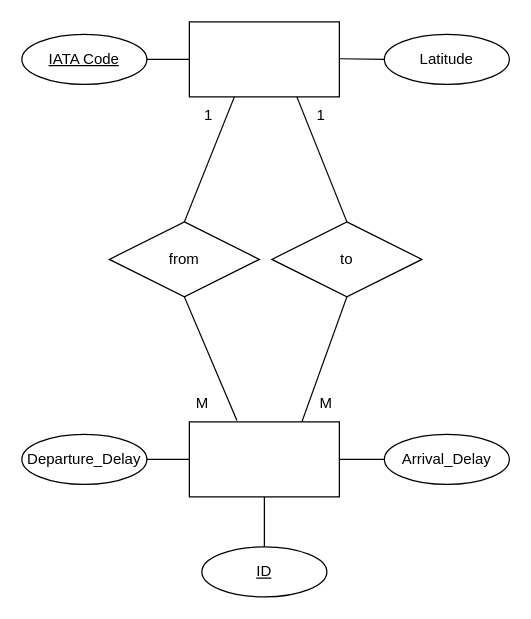
Image size: 531x619. Some labels were removed from this diagram. The shapes that lost their labels are listed below. From the top down, each one's box as (x1, y1, x2, y2) in pixels, then its label:
(188, 21, 339, 97): Airport
(188, 421, 339, 497): Flight
